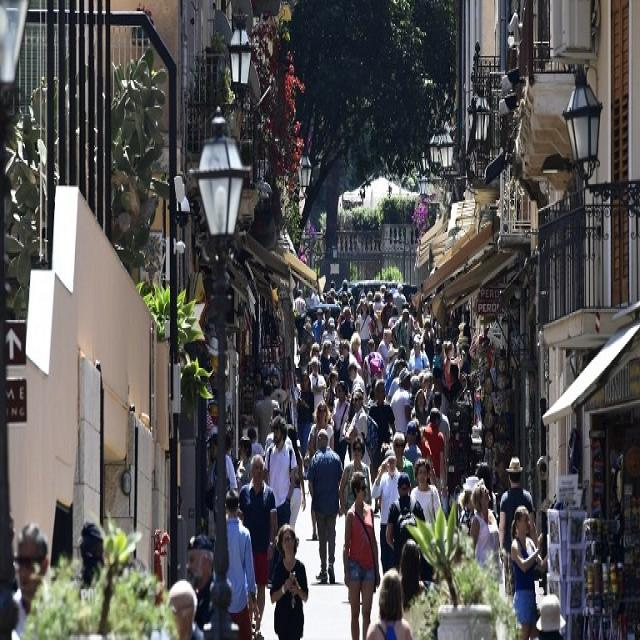body: (289, 280, 443, 392), (237, 451, 278, 640), (0, 518, 60, 638), (341, 469, 381, 638), (498, 454, 540, 605), (467, 480, 505, 638), (307, 426, 343, 586), (225, 488, 261, 640), (510, 504, 548, 640), (269, 522, 309, 638), (262, 414, 298, 533), (369, 448, 402, 576), (366, 378, 397, 514), (307, 400, 335, 541), (385, 472, 427, 562), (365, 566, 413, 640), (283, 429, 308, 563), (184, 531, 217, 632), (338, 434, 373, 515), (165, 576, 206, 640), (398, 536, 429, 618), (421, 406, 448, 499), (421, 408, 448, 501), (75, 512, 111, 579), (343, 387, 371, 466), (383, 405, 433, 446), (413, 458, 443, 523), (330, 380, 351, 470), (207, 434, 240, 491), (296, 368, 315, 461), (388, 364, 413, 434), (254, 365, 283, 411), (456, 466, 484, 510), (442, 339, 461, 392), (444, 362, 465, 408), (408, 338, 432, 378), (239, 422, 257, 453), (263, 414, 274, 445)
